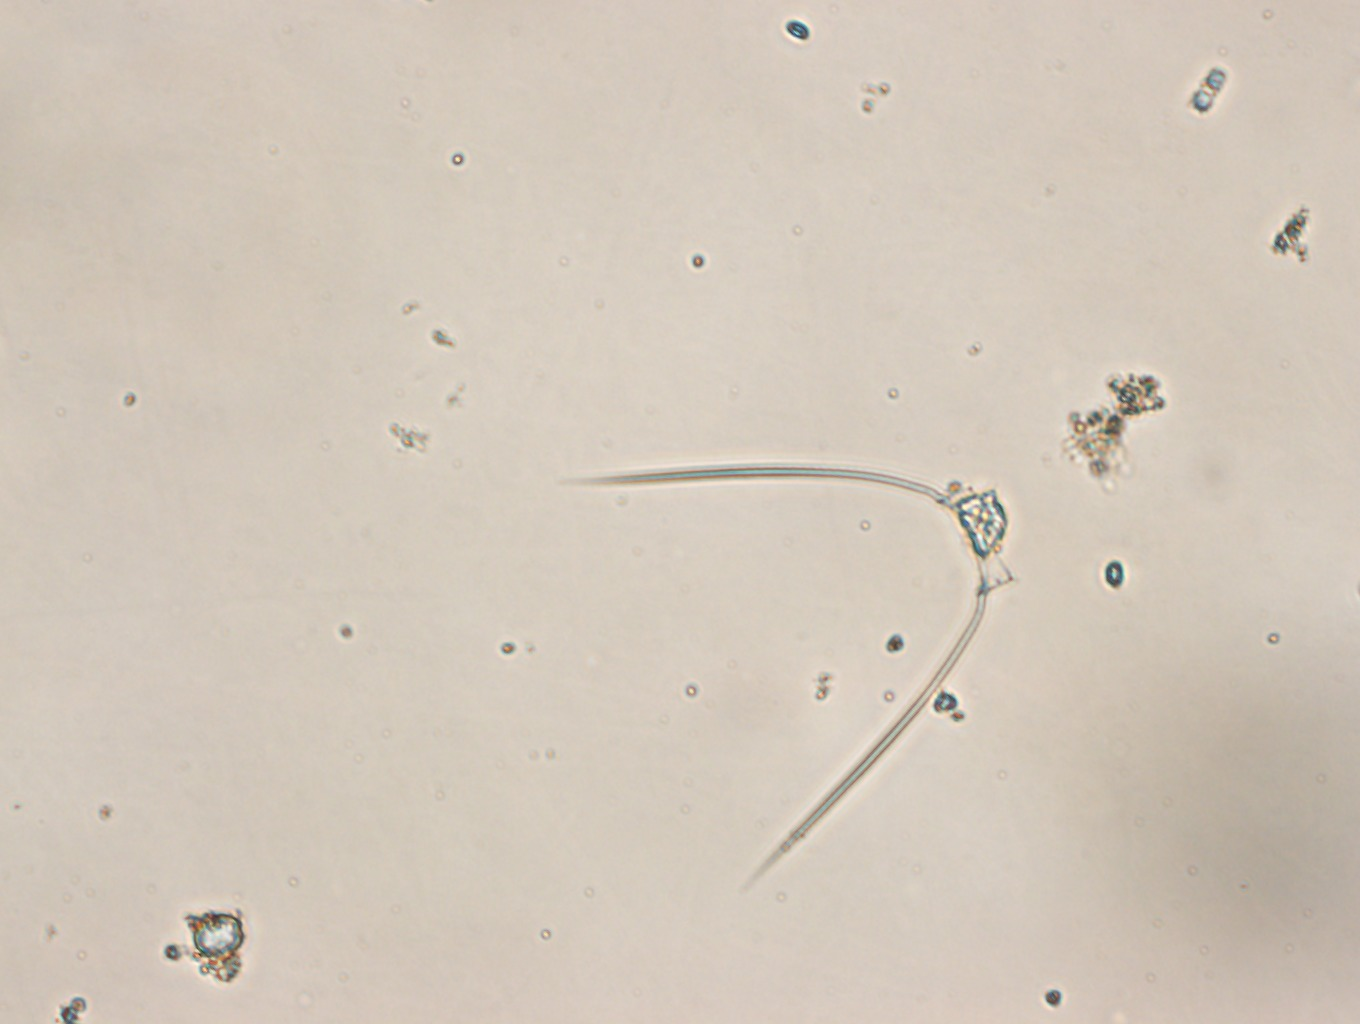chaetoceros: (563, 465, 1013, 890)
